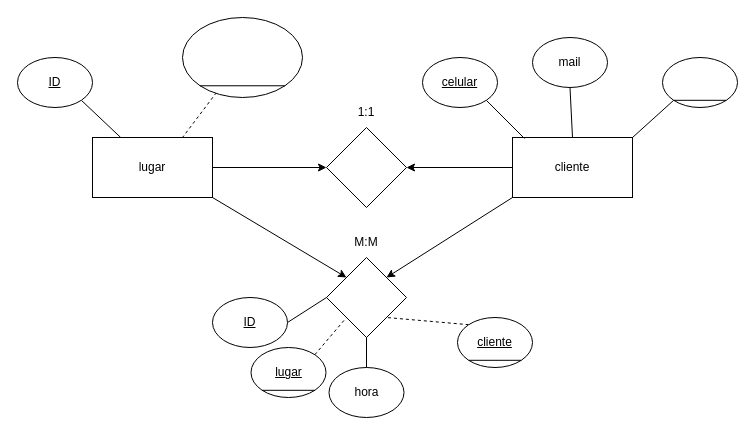
Image size: 755x435. Some labels were removed from this diagram. Each missing label, with the centre of its shape:
"clienteAsignado" belongs at point 242,57.
"estacionado" belongs at point 700,82.
"estacionar" belongs at point 366,167.
"tarifar" belongs at point 366,297.
